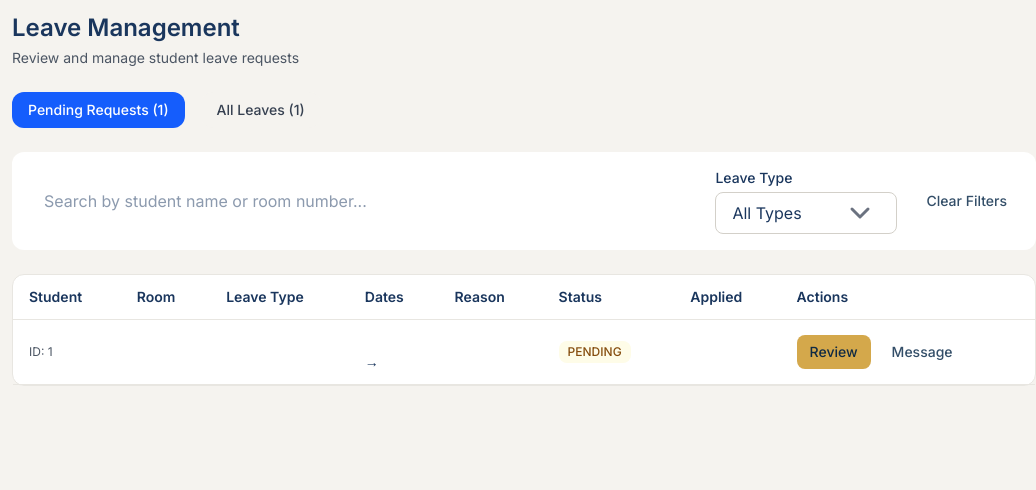
it: Task 18.2 - Superintendent Leave Management › Empty States › should show empty state when no leaves match filters
The image size is (1036, 490).
Step 1. Type "NonExistentStudent" into the field with placeholder "Search by student name or room number..." → (364, 201), box [28,177,699,225]
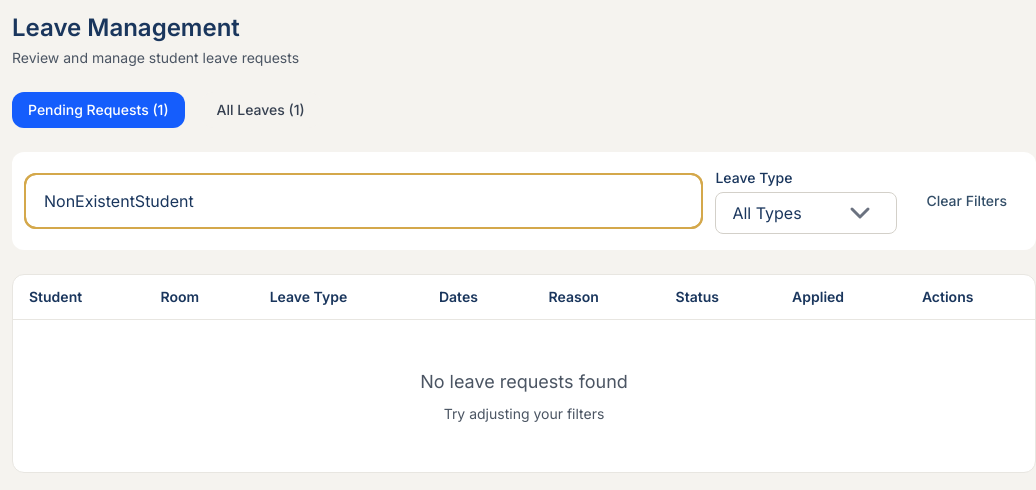
Check: the text "No leave requests found" is shown, box [420,371,628,392]
Check: the text "Try adjusting your filters" is shown, box [444,405,604,422]
